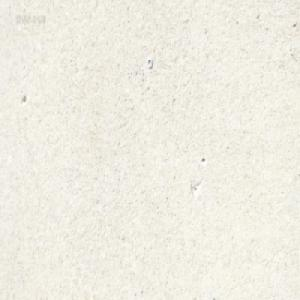Washer: (146, 58, 153, 69)
